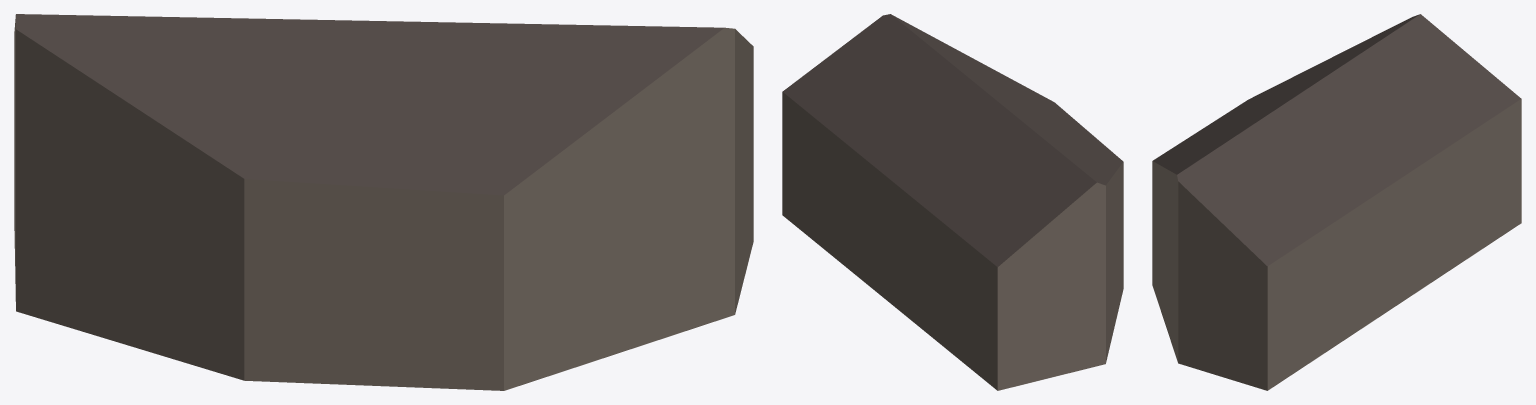
3 renders of one model, left to right at view 1: azimuth 30°, elevation 25°; view 2: azimuth 150°, elevation 25°; view 3: azimuth 270°, elevation 25°, orthographic. The views are drawn at different scales.
Parts seen in each view (by area): view 1: HP-w350277191; view 2: HP-w350277191; view 3: HP-w350277191.
Part boxes in pixels (x1=…): HP-w350277191: x1=14, y1=14, x2=753, y2=390; HP-w350277191: x1=782, y1=14, x2=1123, y2=390; HP-w350277191: x1=1152, y1=14, x2=1521, y2=390.
Size of the model in its own units: 30.08 by 13.38 by 24.18.
